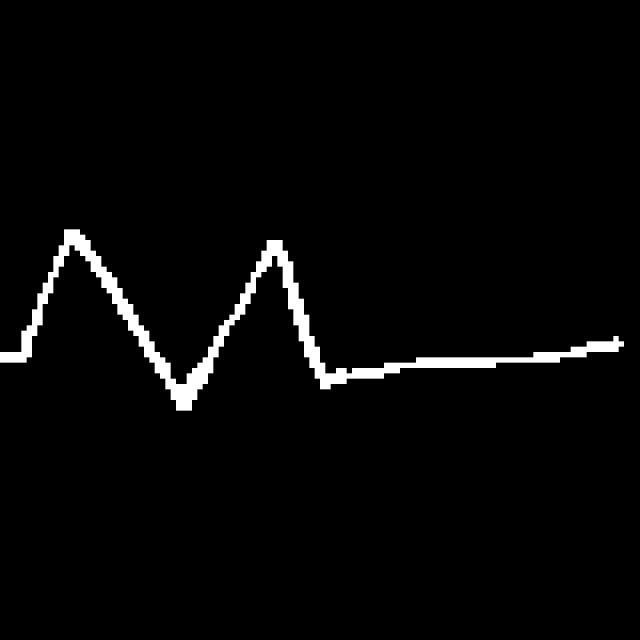resistor: (12, 214, 354, 443)
